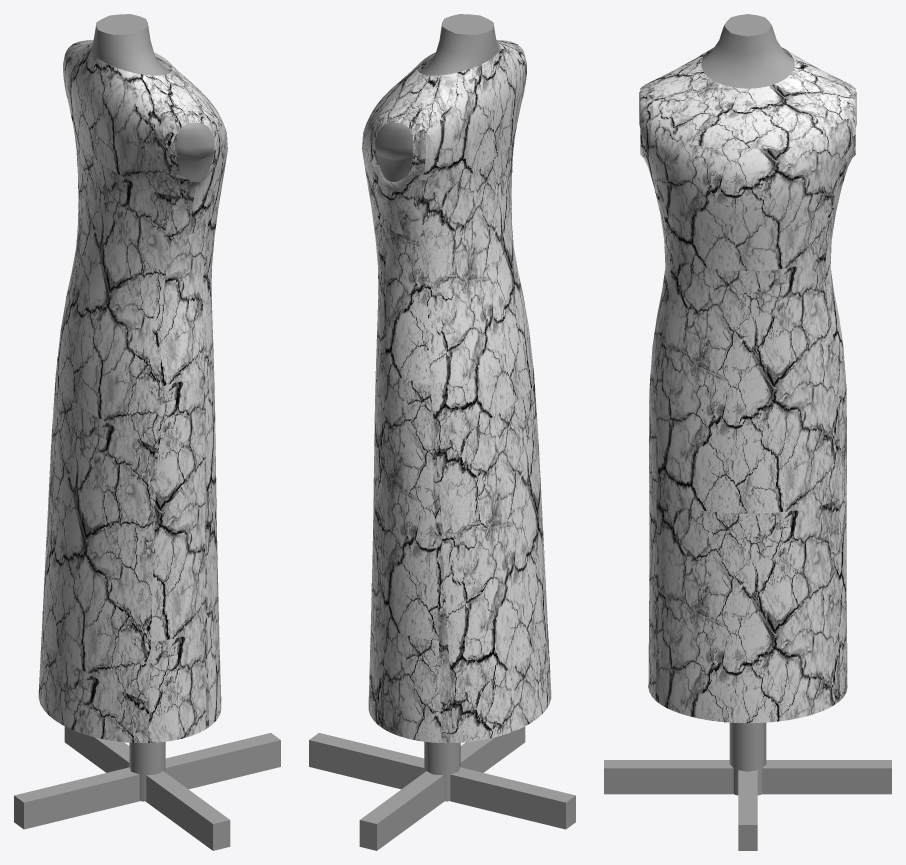
3 renders of one model, left to right at view 1: azimuth 30°, elevation 25°; view 2: azimuth 150°, elevation 25°; view 3: azimuth 270°, elevation 25°, orthographic. The views are drawn at different scales.
Visible parts, largest first — view 1: polySurface2, polySurface1, pCylinder3; view 2: polySurface2, polySurface1, pCylinder3; view 3: polySurface2, polySurface1, pCylinder3.
Boxes of the visible parts, x1=… form: polySurface2: x1=38, y1=332, x2=221, y2=742; polySurface1: x1=60, y1=40, x2=227, y2=383; pCylinder3: x1=14, y1=14, x2=280, y2=850; polySurface2: x1=368, y1=332, x2=551, y2=742; polySurface1: x1=362, y1=40, x2=529, y2=383; pCylinder3: x1=309, y1=14, x2=575, y2=850; polySurface2: x1=648, y1=347, x2=847, y2=723; polySurface1: x1=640, y1=47, x2=855, y2=374; pCylinder3: x1=604, y1=14, x2=891, y2=850.
Size of the model in its own units: 3 by 8.66 by 3.
2 materials, 1 textured.
